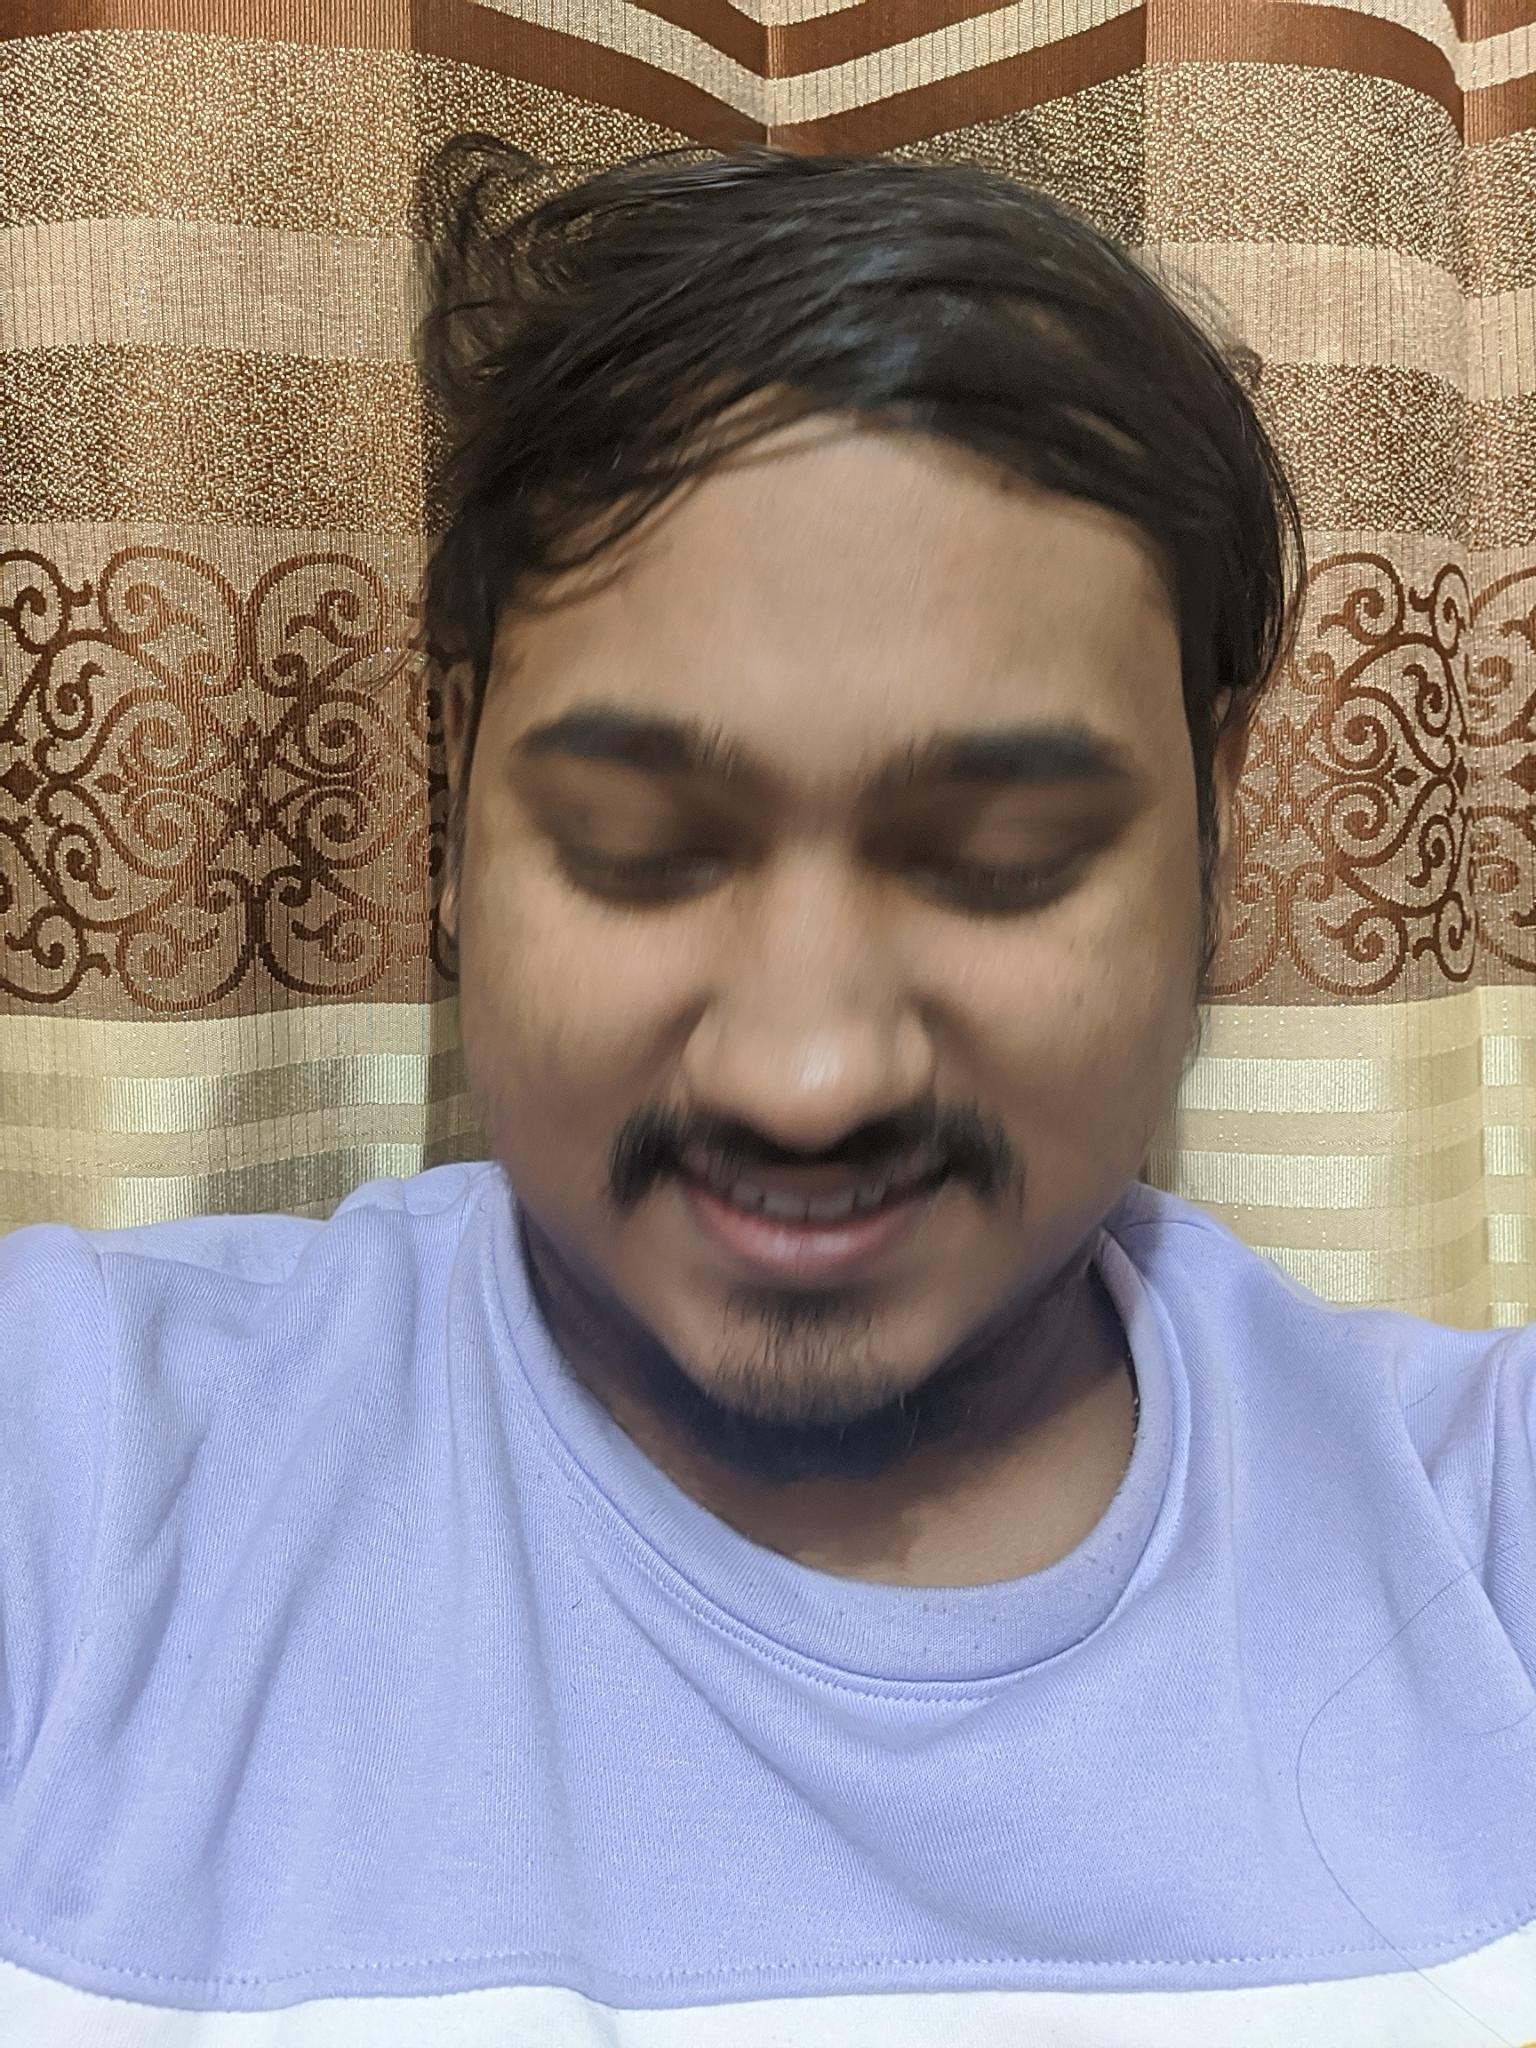Happy: (458, 574, 1183, 1443)
